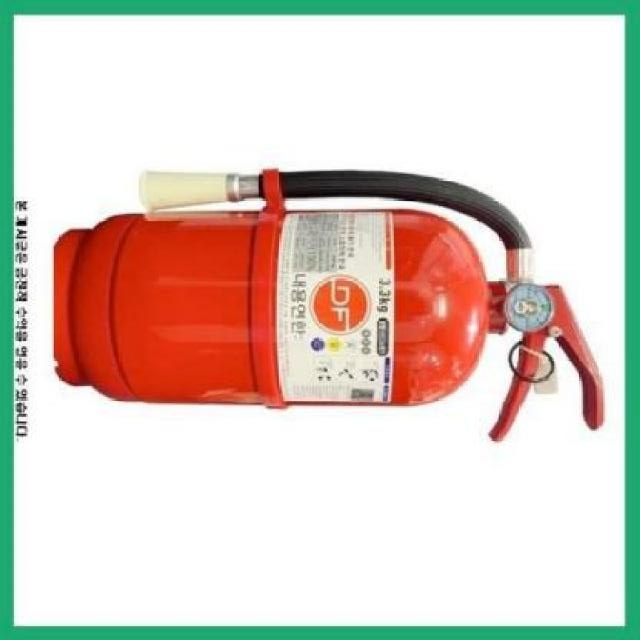fire extinguisher: (52, 168, 605, 443)
